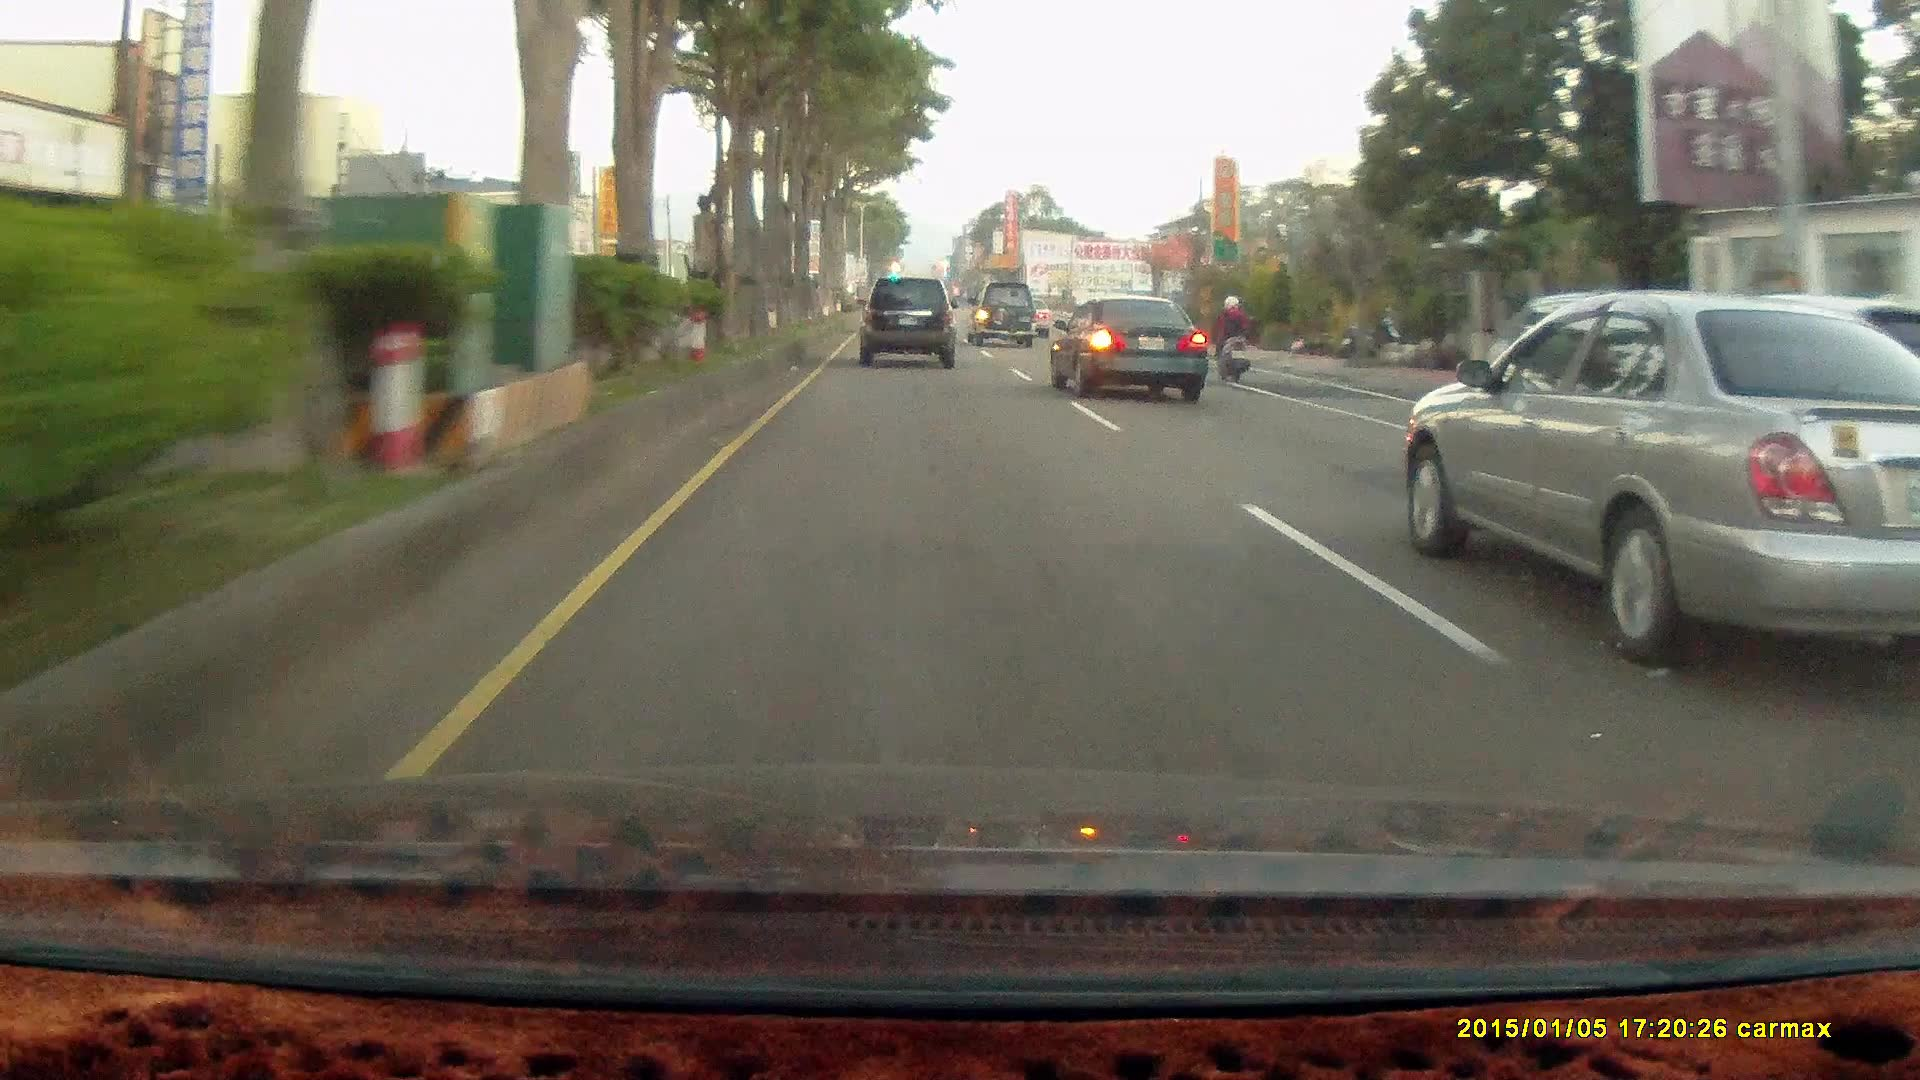rider: (1203, 286, 1260, 390), (1210, 289, 1255, 382)
vehicle: (1402, 291, 1920, 672), (1047, 292, 1207, 401), (1053, 297, 1214, 400), (861, 279, 962, 371), (852, 275, 952, 367), (966, 280, 1039, 351), (966, 279, 1039, 348)
